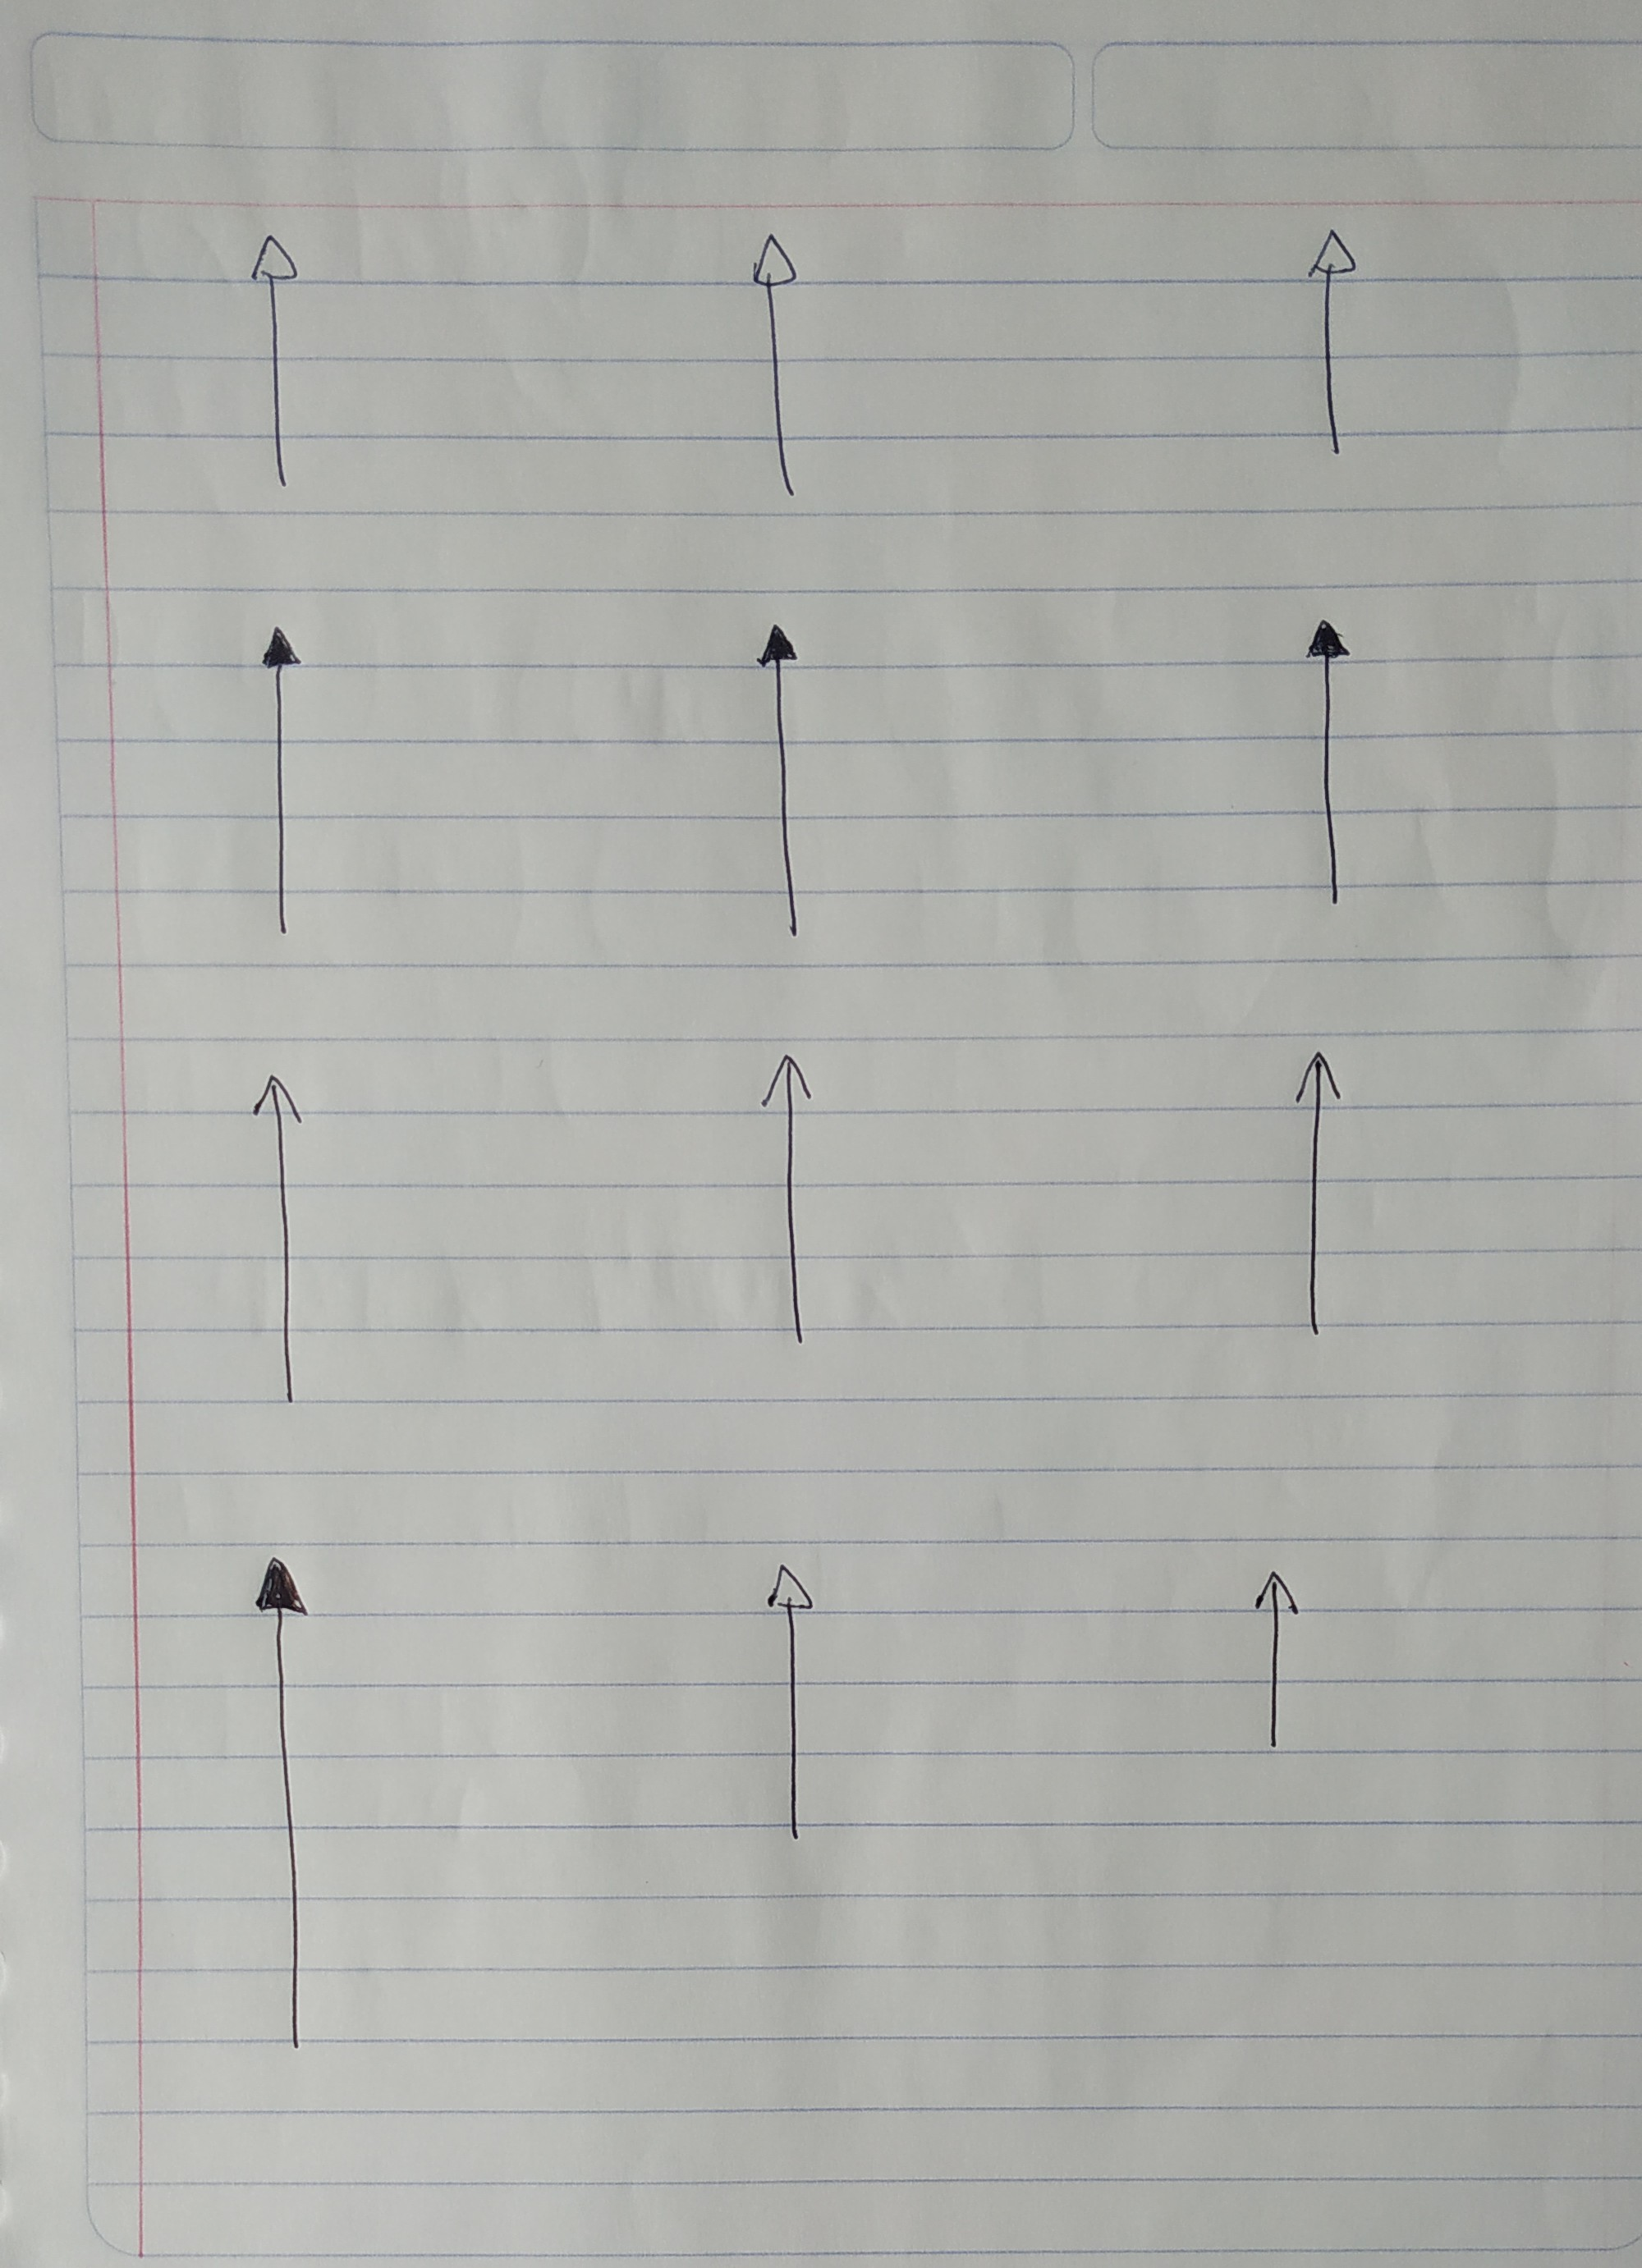arrow_line_up: (247, 1553, 324, 2057), (245, 1069, 326, 1416), (745, 618, 826, 946), (247, 623, 326, 954), (758, 1049, 839, 1349), (740, 231, 821, 512), (1279, 1048, 1346, 1349), (245, 234, 319, 497), (1297, 606, 1355, 923), (754, 1560, 814, 1861), (1300, 227, 1364, 467), (1244, 1569, 1300, 1770)
